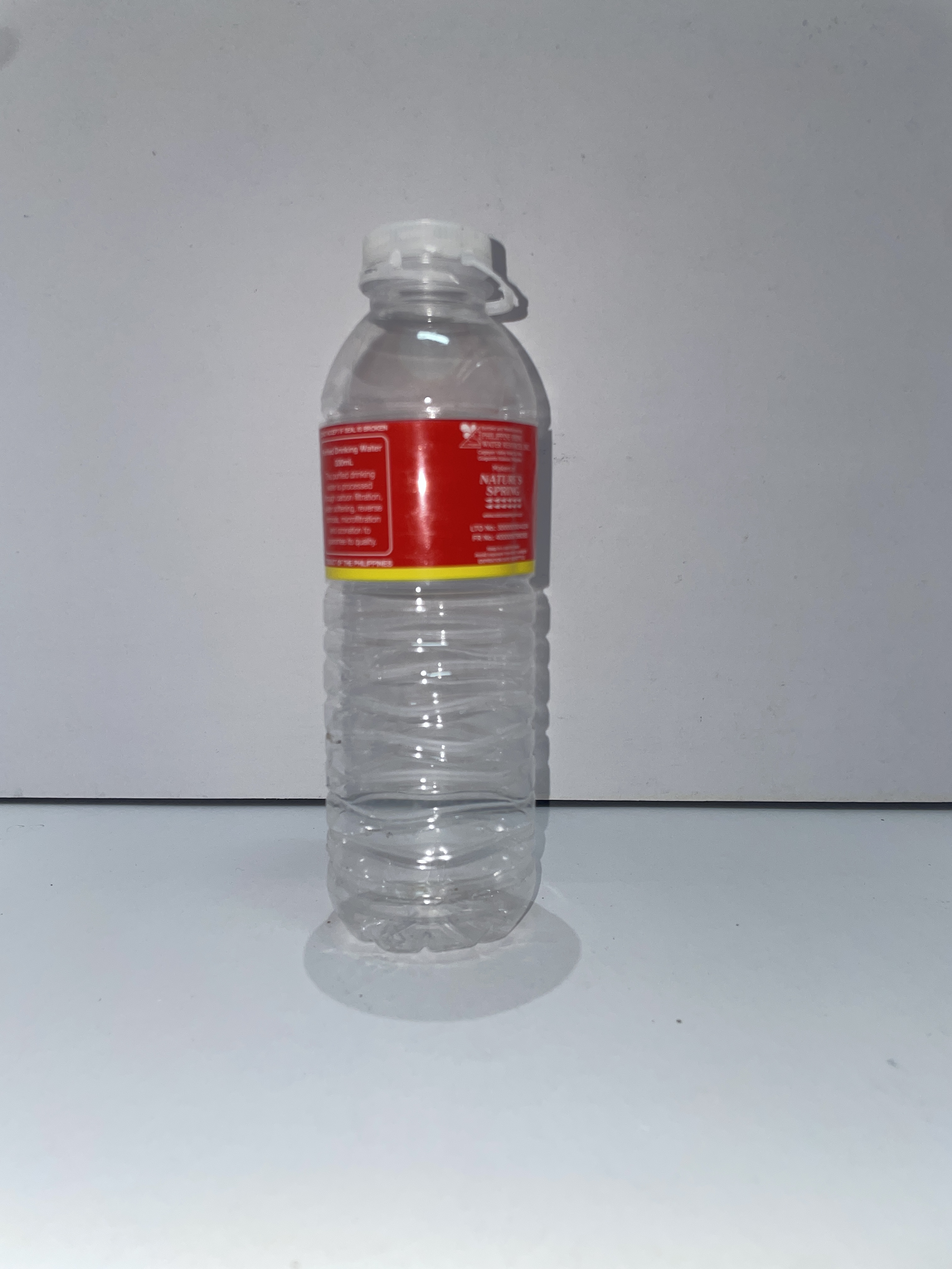Nature spring victory liner 330ml: (320, 219, 544, 953)
